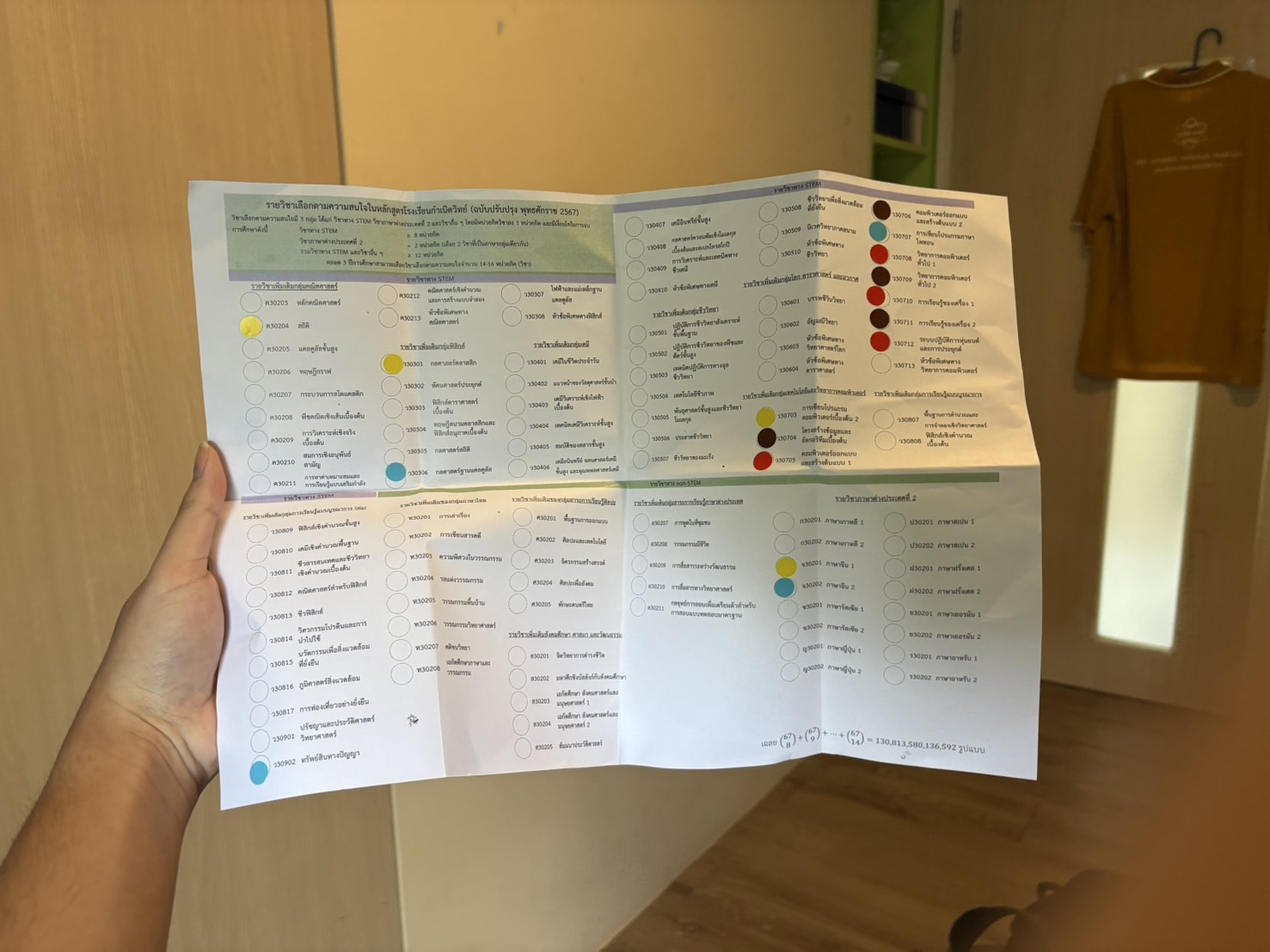paper: (187, 168, 1042, 811)
